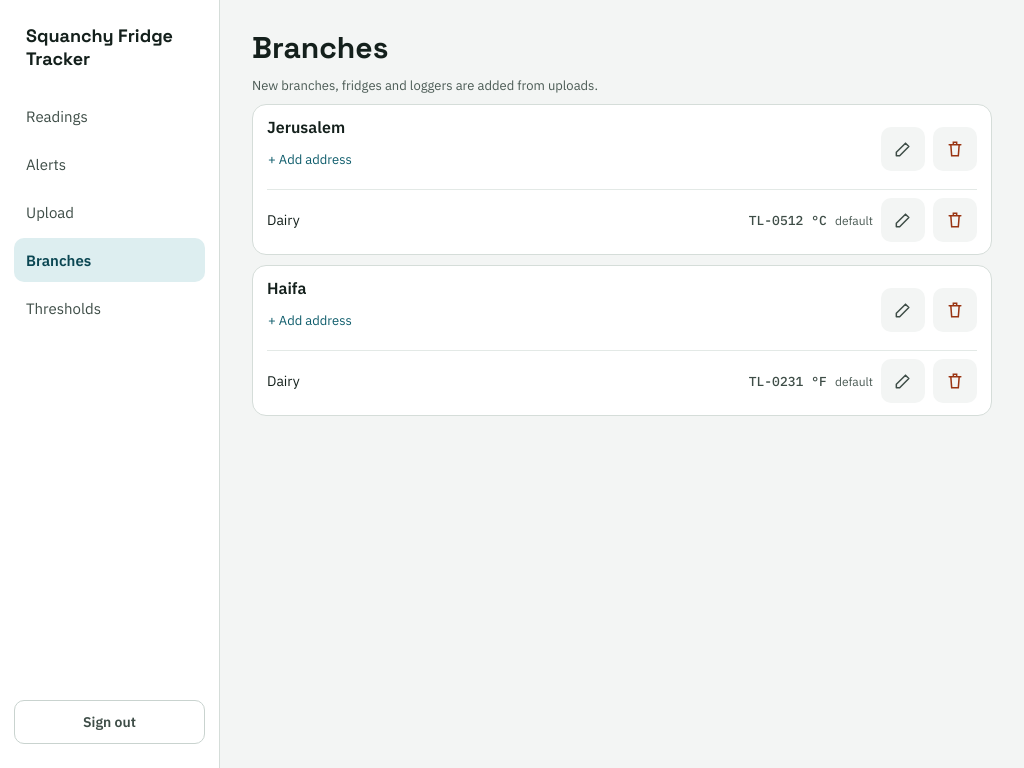
Test: BranchesPage delete branch › shows the delete impact counts before anything is deleted
Click the button named "Delete Haifa".
click(955, 310)  # box 933,288 -> 977,332
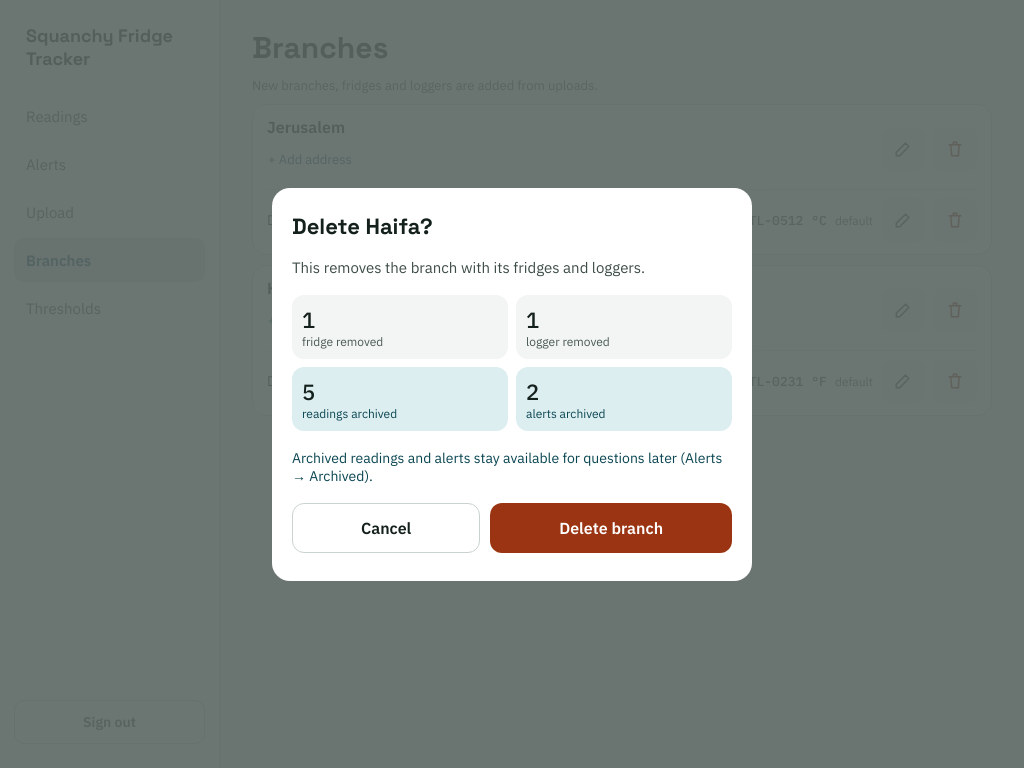
Result: the text "5" is shown at 302,376 -> 315,406
